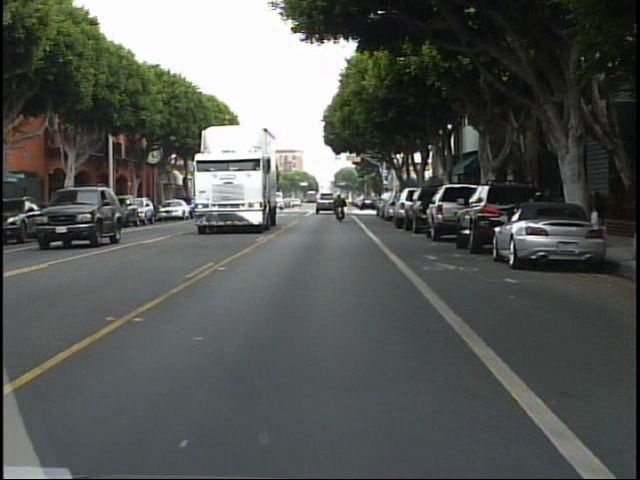person: (332, 191, 350, 222)
